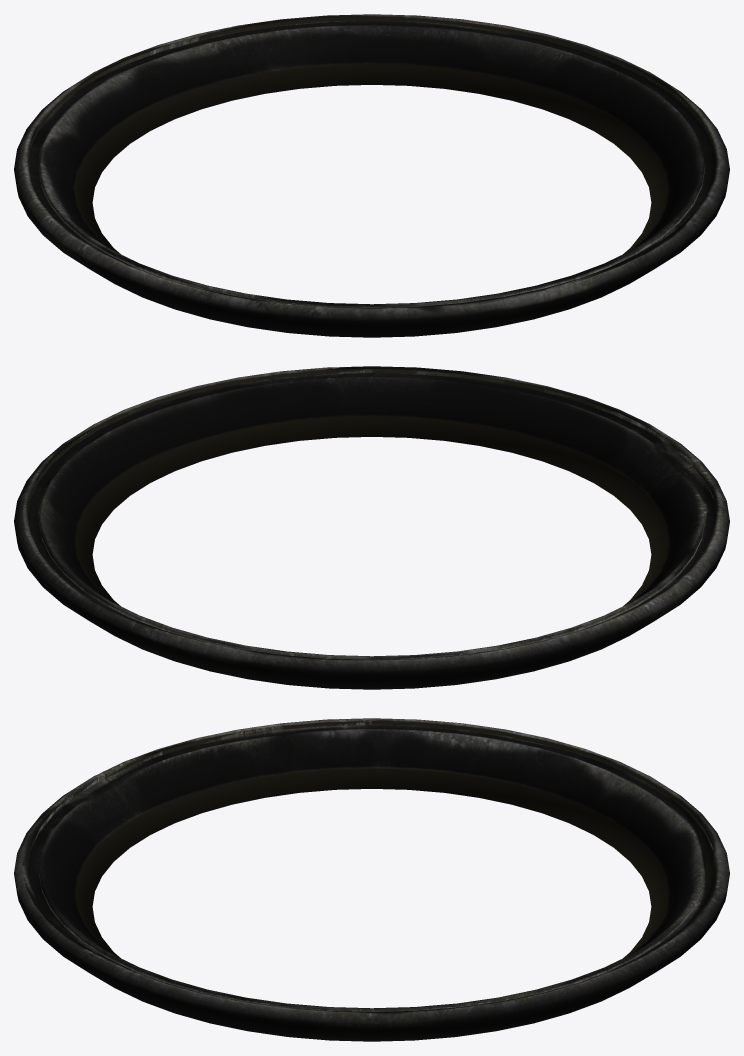
File: Disc ringr.fbx
The picture shows the model from 3 angles, top to bottom: view 1: azimuth 30°, elevation 25°; view 2: azimuth 150°, elevation 25°; view 3: azimuth 270°, elevation 25°; orthographic projection.
Parts seen in each view (by area): view 1: Torus.002; view 2: Torus.002; view 3: Torus.002.
Boxes of the visible parts, x1,y1,x2,y2 form: Torus.002: (14, 14, 729, 337); Torus.002: (14, 366, 729, 689); Torus.002: (14, 718, 729, 1041).
Bounding box in the file's own units: 2714 × 172 × 2714.
